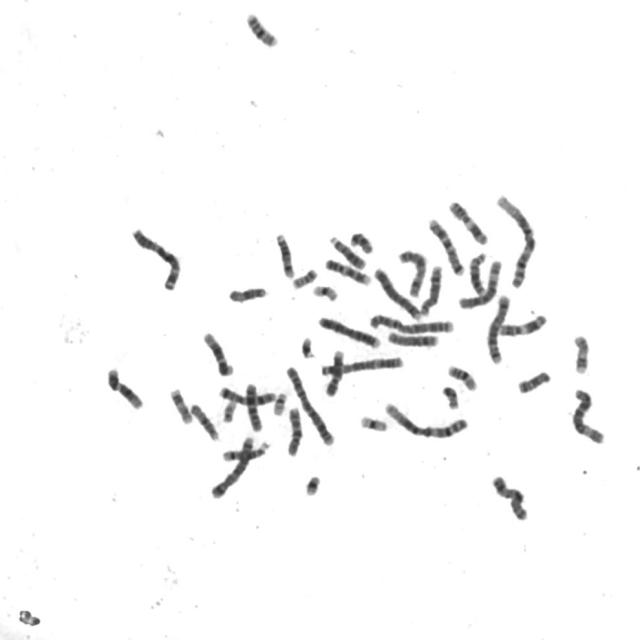A1: (493, 189, 539, 289), (382, 396, 472, 441)
A2: (283, 362, 338, 448), (367, 308, 457, 335)
A3: (128, 222, 184, 292), (318, 351, 406, 377)
B4: (371, 263, 425, 321), (315, 310, 384, 350)
B5: (208, 431, 258, 500), (484, 290, 513, 364)
C10: (242, 378, 265, 432), (284, 401, 306, 457)
C11: (446, 195, 492, 246), (496, 309, 549, 338)
C12: (104, 362, 146, 411), (200, 327, 237, 378)
C6: (455, 256, 505, 310), (570, 384, 608, 446)
C7: (425, 213, 468, 277), (216, 380, 279, 406)
C8: (418, 262, 446, 316), (384, 328, 442, 348)
C9: (322, 254, 374, 286), (322, 345, 348, 397)
D13: (327, 230, 369, 271), (466, 246, 490, 296)
D14: (220, 436, 273, 463), (273, 228, 298, 279)
D15: (187, 399, 222, 442), (226, 281, 271, 304)
E16: (242, 8, 282, 48), (445, 360, 480, 392)
E17: (167, 383, 196, 425), (570, 329, 593, 376)
E18: (515, 365, 554, 395), (347, 227, 376, 255)
F19: (357, 410, 390, 432), (309, 280, 341, 302)
F20: (289, 262, 321, 290), (439, 382, 462, 411)
G21: (301, 470, 324, 497), (298, 332, 318, 359)
G22: (219, 395, 241, 424), (270, 388, 290, 416)
X: (489, 470, 531, 522), (396, 245, 430, 297)
